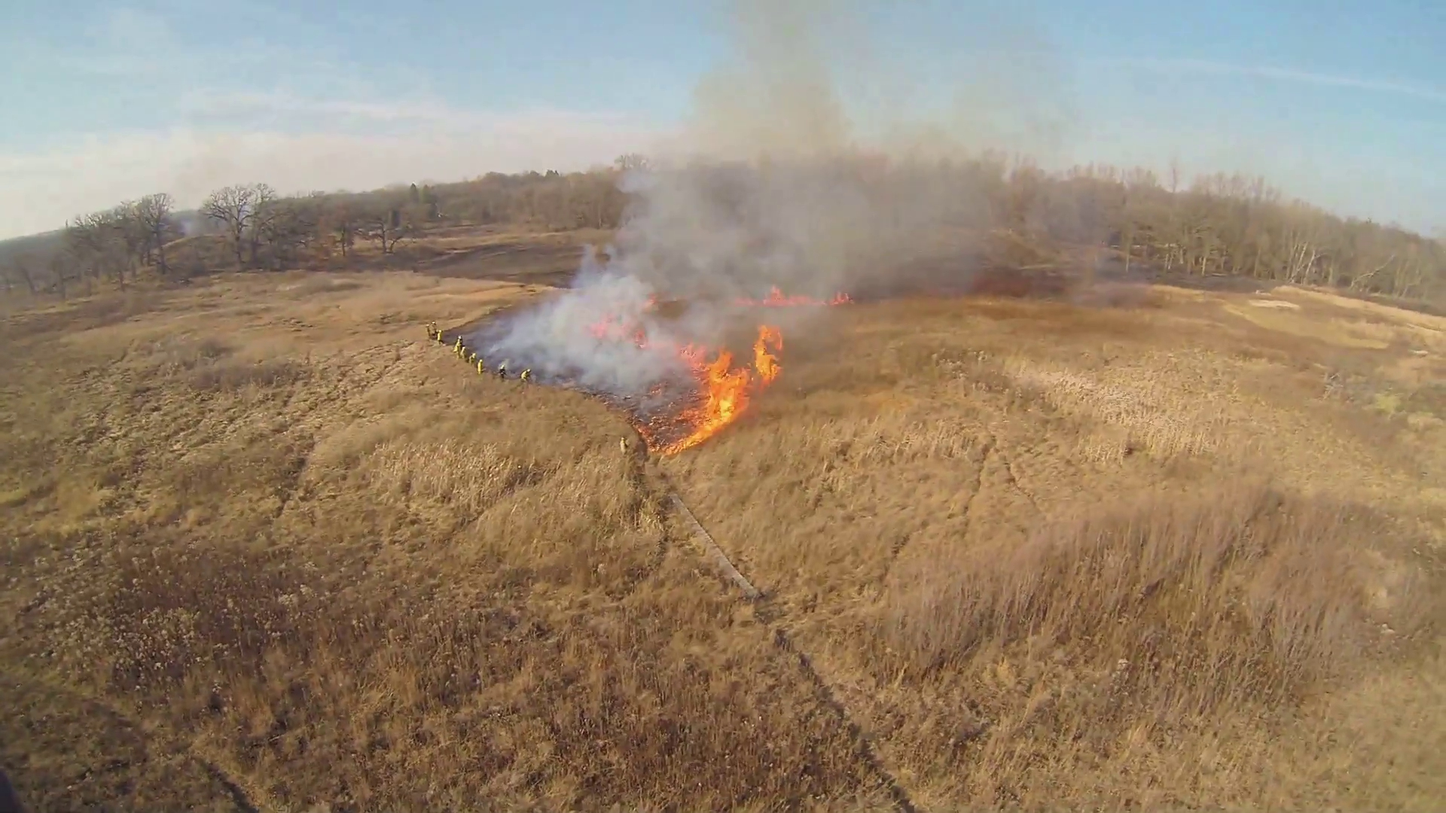forest_fire: (657, 324, 783, 455), (736, 286, 851, 308)
